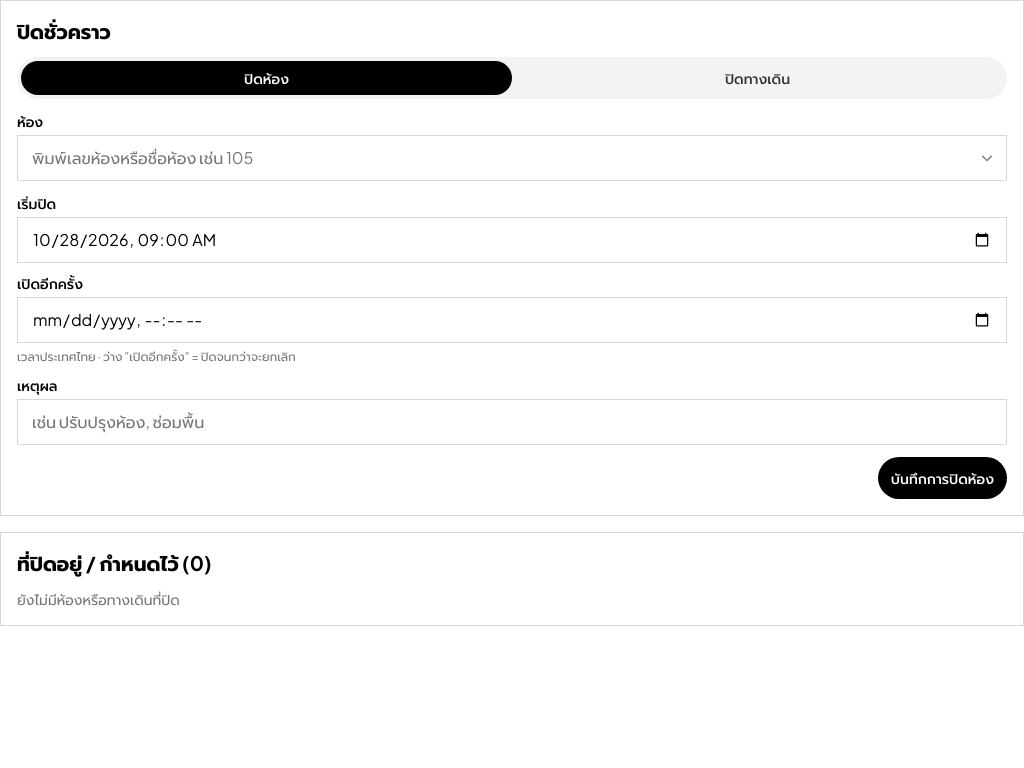
Test: ClosurePanel › closes a room with a window and reason, then refreshes the graph
Type "105" into the dropdown at (512, 158), box [17, 135, 1007, 181]
Then press Enter
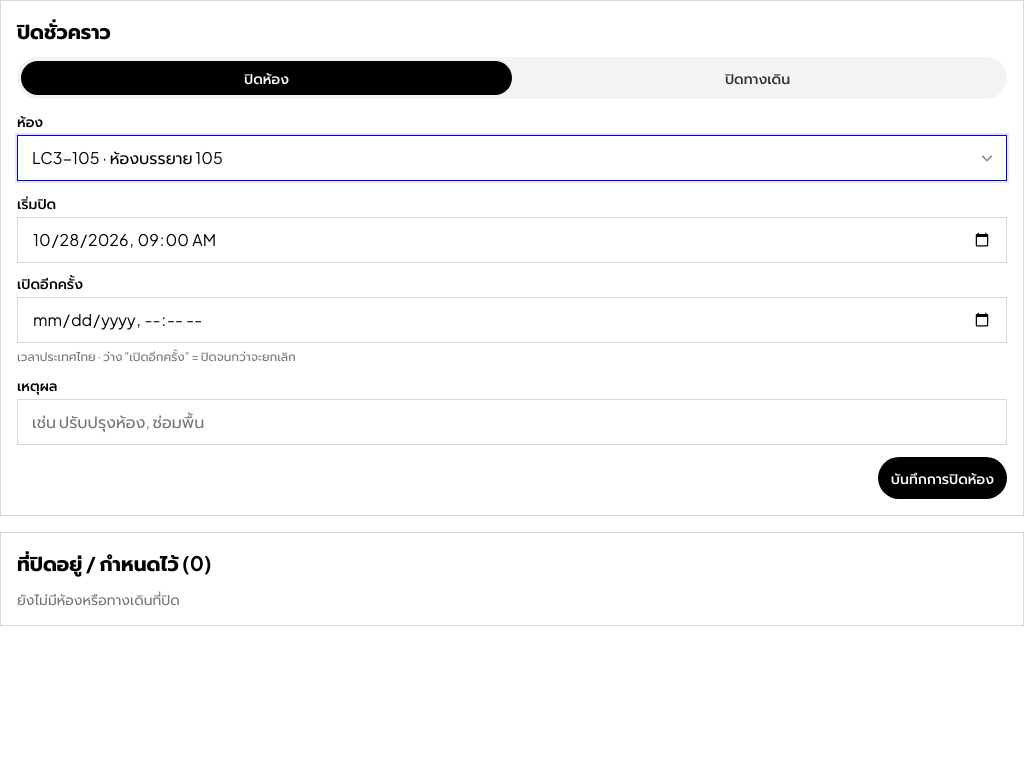
Type "2026-10-29T12:00" into the field labelled "เปิดอีกครั้ง" at (512, 320), box [17, 297, 1007, 343]
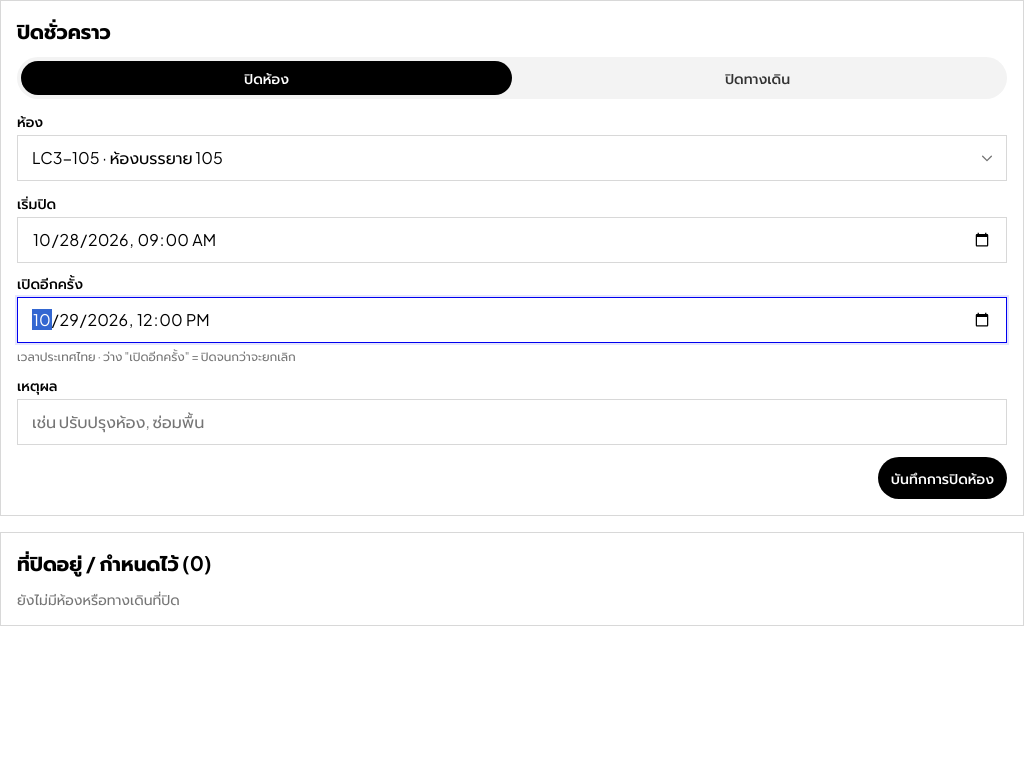
Type "ปรับปรุงห้อง" into the field labelled "เหตุผล" at (512, 422), box [17, 399, 1007, 445]
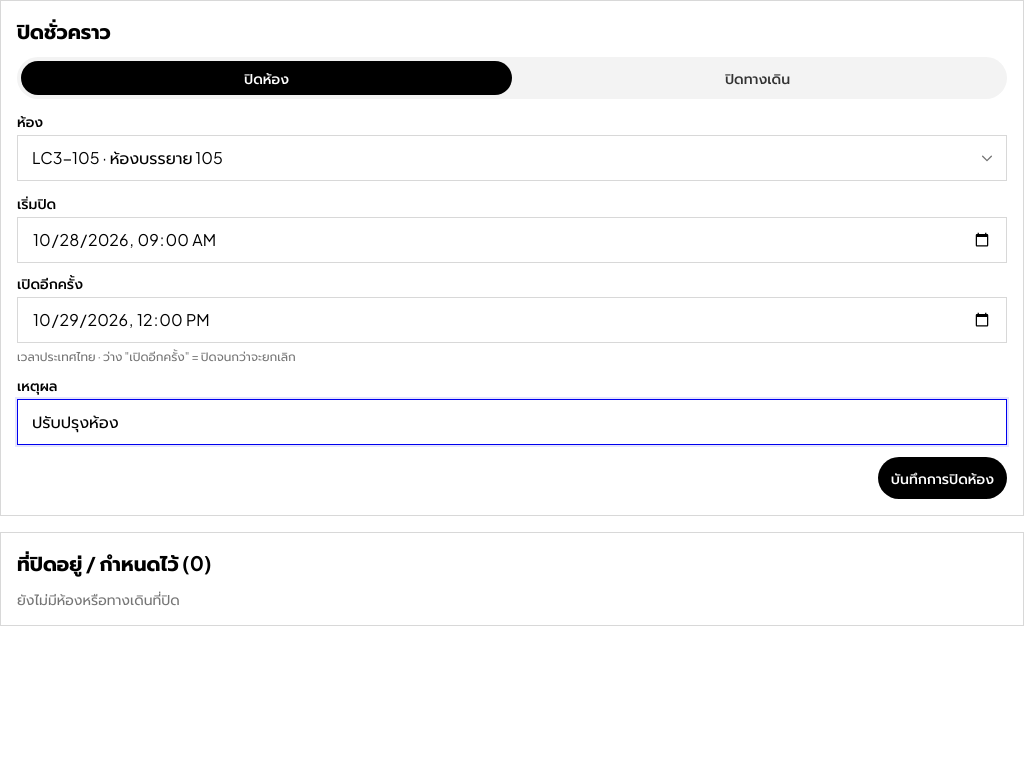
Click the button "บันทึกการปิดห้อง" at (942, 478), box [878, 457, 1007, 499]
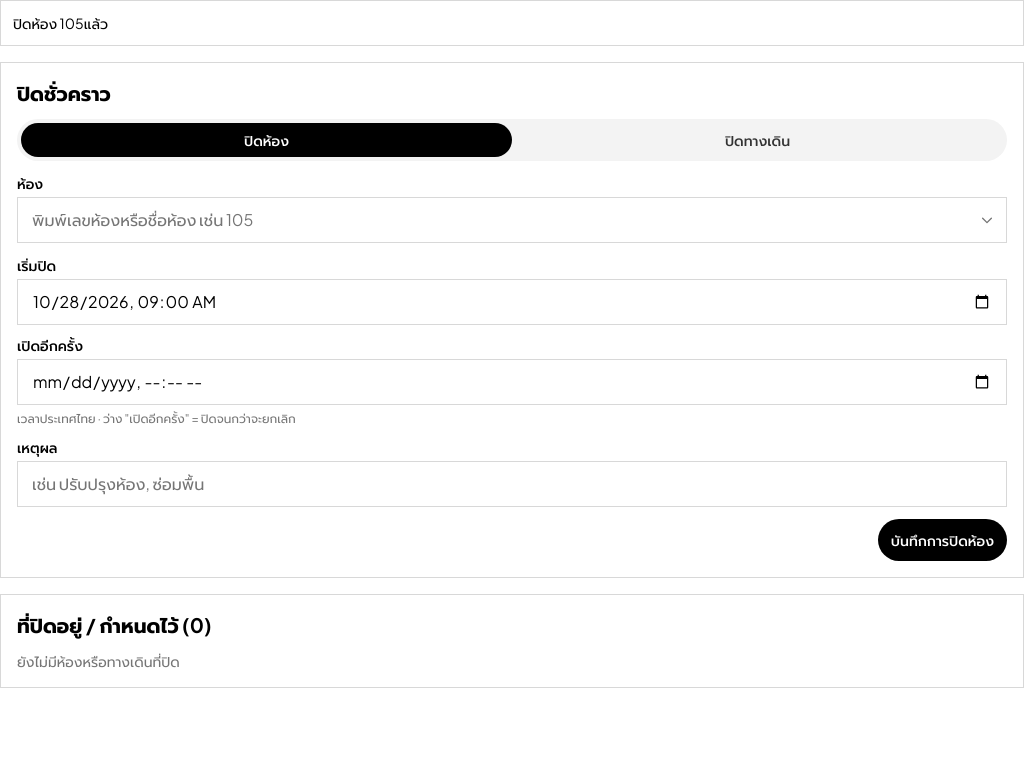
Expected: the text "ปิดห้อง 105แล้ว" is shown, [0, 0, 1023, 46]
Expected: the dropdown is empty, [17, 197, 1007, 243]
Expected: the field labelled "เปิดอีกครั้ง" is empty, [17, 359, 1007, 405]
